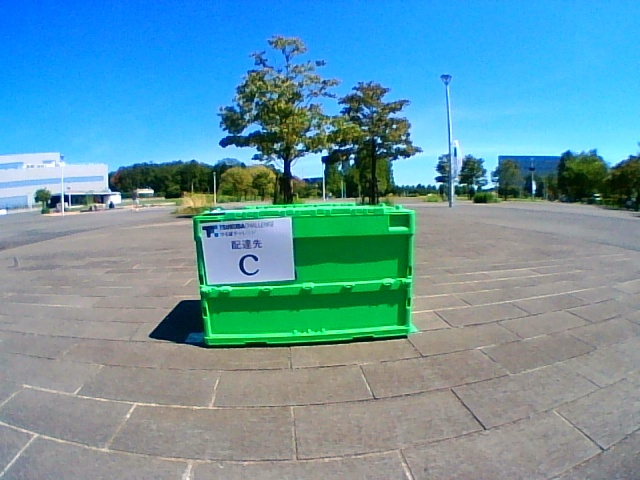green_box: (194, 203, 416, 347)
tag_c: (211, 224, 288, 281)
